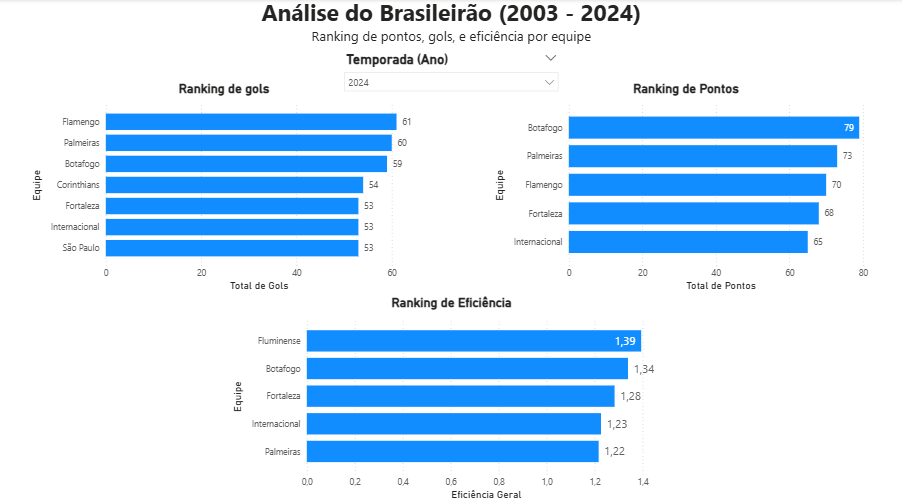

This screenshot's page, from the dashboard's own definition file:
{"tool":"powerbi","page":{"name":"Página 1","canvas":[1280,720],"ordinal":0},"visuals":[{"type":"barChart","title":"Ranking de Pontos","fields":{"Category":["brasileirao.team"],"Y":["brasileirao.Total de Pontos"]},"box":[683.7,169.7,552.7,302.4],"z":0},{"type":"barChart","title":"Ranking de gols","fields":{"Category":["brasileirao.team"],"Y":["brasileirao.Total de Gols"]},"box":[85.7,169.7,554.3,302.4],"z":1000},{"type":"barChart","title":"Ranking de Eficiência","fields":{"Y":["brasileirao.Eficiência Geral"],"Category":["brasileirao.Equipe"]},"box":[283.9,472,799.6,248.6],"z":2000},{"type":"textbox","box":[366.2,0,547.6,87.3],"z":3000},{"type":"slicer","fields":{"Values":["brasileirao.season"]},"box":[467,87.3,344.4,82.3],"z":4000}]}

Visuals, with their boxes in screenshot pixels (x1, y1, x2, y2), scaled from the page's 1280x720 canvas onto the 902x499 screenshot:
"Ranking de Pontos" barChart: [left=482, top=118, right=871, bottom=327]
"Ranking de gols" barChart: [left=60, top=118, right=451, bottom=327]
"Ranking de Eficiência" barChart: [left=200, top=327, right=764, bottom=498]
textbox: [left=258, top=0, right=644, bottom=61]
slicer - brasileirao.season: [left=329, top=61, right=572, bottom=118]
